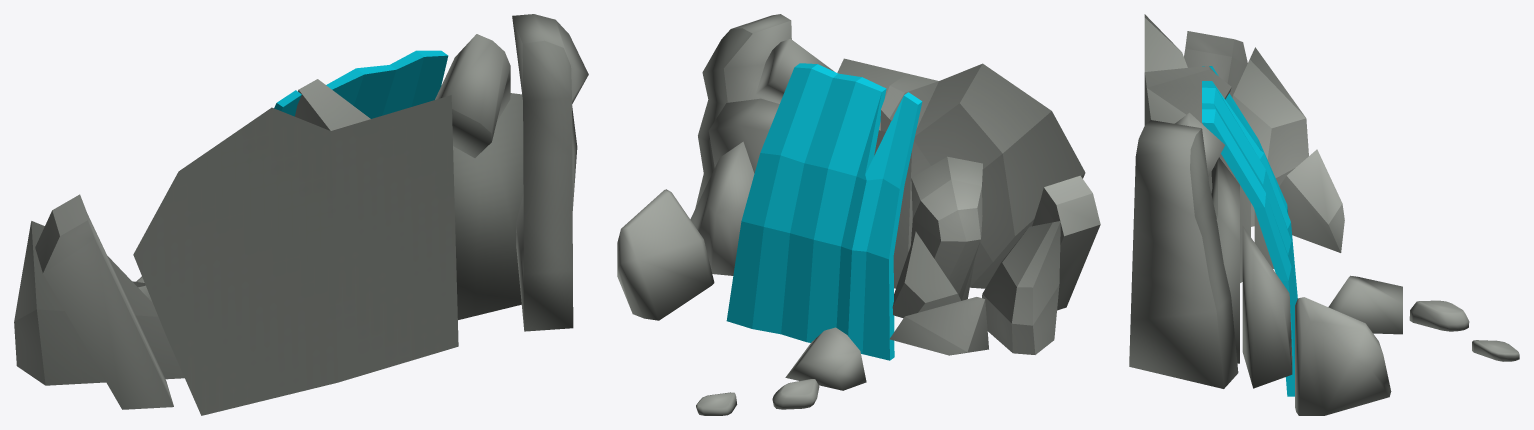
Rendered from CascadaModular.fbx.
The picture shows the model from 3 angles, left to right: view 1: azimuth 30°, elevation 25°; view 2: azimuth 150°, elevation 25°; view 3: azimuth 270°, elevation 25°; orthographic projection. The views are drawn at different scales.
Visible parts, largest first — view 1: PiedraCascada, PiedraCascada.011, PiedraCascada.006, PiedraCascada.012, PiedraCascada.005, PiedraCascada.013, AguaCascada; view 2: AguaCascada, PiedraCascada, PiedraCascada.009, PiedraCascada.005, PiedraCascada.008, PiedraCascada.011, PiedraCascada.010, PiedraCascada.006, PiedraCascada.004, PiedraCascada.003, PiedraCascada.007, PiedraCascada.012 (+3 smaller); view 3: PiedraCascada.011, PiedraCascada.009, AguaCascada, PiedraCascada.010, PiedraCascada.005, PiedraCascada, PiedraCascada.004, PiedraCascada.003, PiedraCascada.012, PiedraCascada.006, PiedraCascada.002, PiedraCascada.013 (+3 smaller).
Part boxes in pixels (left/top/right/bottom): PiedraCascada: left=133, top=79, right=458, bottom=415; PiedraCascada.011: left=512, top=14, right=588, bottom=331; PiedraCascada.006: left=35, top=194, right=173, bottom=409; PiedraCascada.012: left=453, top=93, right=523, bottom=319; PiedraCascada.005: left=14, top=221, right=184, bottom=385; PiedraCascada.013: left=435, top=34, right=510, bottom=157; AguaCascada: left=274, top=50, right=448, bottom=118; AguaCascada: left=726, top=63, right=922, bottom=360; PiedraCascada: left=837, top=58, right=1085, bottom=288; PiedraCascada.009: left=617, top=189, right=714, bottom=320; PiedraCascada.005: left=982, top=221, right=1060, bottom=354; PiedraCascada.008: left=911, top=156, right=982, bottom=300; PiedraCascada.011: left=695, top=14, right=791, bottom=208; PiedraCascada.010: left=690, top=141, right=754, bottom=275; PiedraCascada.006: left=1032, top=175, right=1100, bottom=310; PiedraCascada.004: left=889, top=297, right=988, bottom=355; PiedraCascada.003: left=785, top=327, right=866, bottom=390; PiedraCascada.007: left=892, top=231, right=961, bottom=318; PiedraCascada.012: left=708, top=98, right=779, bottom=173; PiedraCascada.011: left=1129, top=120, right=1238, bottom=388; PiedraCascada.009: left=1295, top=297, right=1391, bottom=415; AguaCascada: left=1202, top=66, right=1297, bottom=396; PiedraCascada.010: left=1242, top=226, right=1292, bottom=388; PiedraCascada.005: left=1232, top=47, right=1308, bottom=226; PiedraCascada: left=1144, top=14, right=1231, bottom=193; PiedraCascada.004: left=1279, top=149, right=1344, bottom=252; PiedraCascada.003: left=1328, top=275, right=1402, bottom=334; PiedraCascada.012: left=1211, top=157, right=1239, bottom=363; PiedraCascada.006: left=1184, top=31, right=1247, bottom=97; PiedraCascada.002: left=1409, top=300, right=1469, bottom=331; PiedraCascada.013: left=1175, top=112, right=1224, bottom=176.
Bounding box in the file's own units: 10.74 × 7.7 × 6.11.
Materials: 2 (1 with a texture image).
